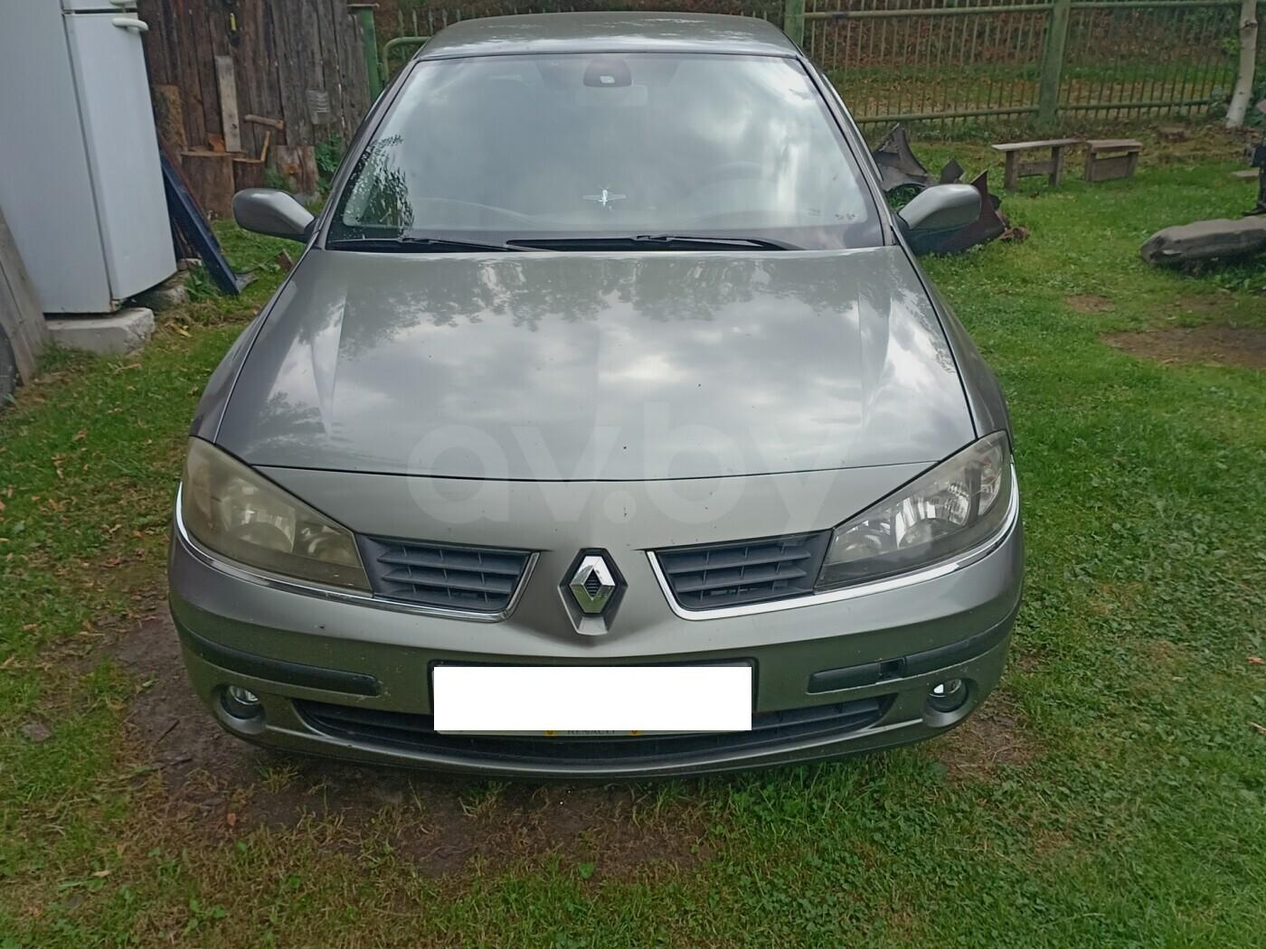Laguna_2005-2007: (160, 6, 1036, 817)
